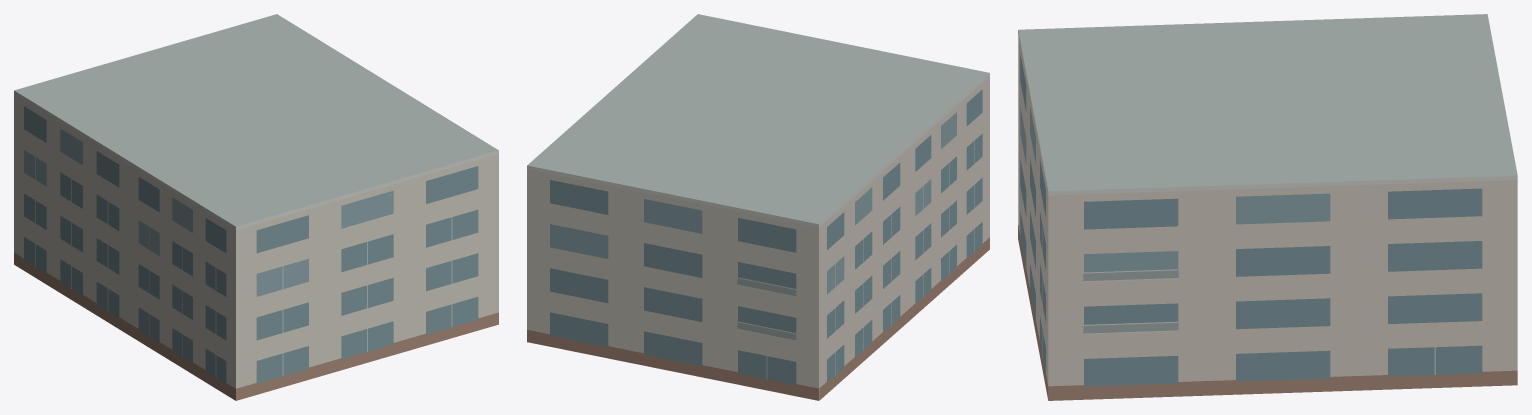
File: residential-c2ef8c76-aeb2-4424-b1f0-6f2ab996e21a.glb
3 views of the same model, side by side, from view 1: azimuth 30°, elevation 25°; view 2: azimuth 150°, elevation 25°; view 3: azimuth 270°, elevation 25° (orthographic). The views are drawn at different scales.
Parts seen in each view (by area): view 1: residential-c2ef8c76-aeb2-4424-b1f0-6f2ab996e21a.tmp; view 2: residential-c2ef8c76-aeb2-4424-b1f0-6f2ab996e21a.tmp; view 3: residential-c2ef8c76-aeb2-4424-b1f0-6f2ab996e21a.tmp.
Boxes of the visible parts, x1,y1,x2,y2 form: residential-c2ef8c76-aeb2-4424-b1f0-6f2ab996e21a.tmp: (14, 14, 498, 400); residential-c2ef8c76-aeb2-4424-b1f0-6f2ab996e21a.tmp: (527, 14, 989, 400); residential-c2ef8c76-aeb2-4424-b1f0-6f2ab996e21a.tmp: (1018, 14, 1517, 400).
Size of the model in its own units: 22.16 by 12.2 by 26.37.
